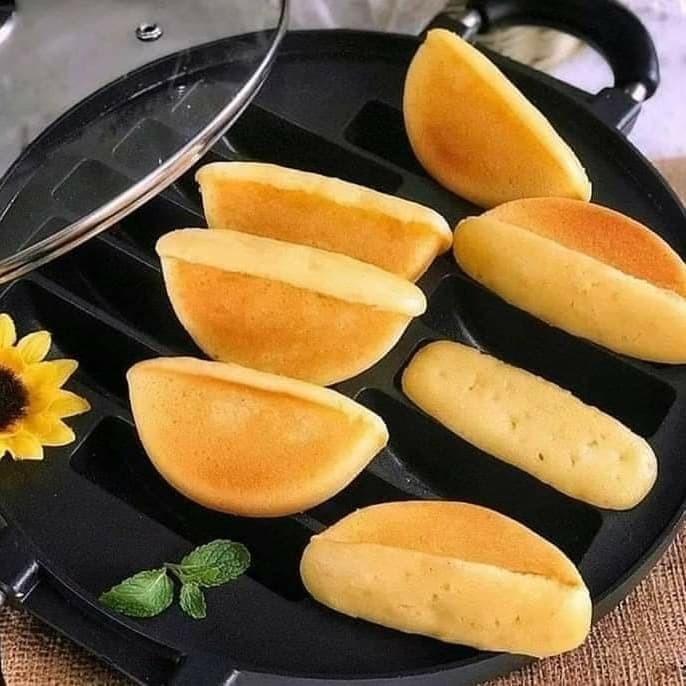pukis: (88, 346, 391, 510), (137, 206, 419, 381)
